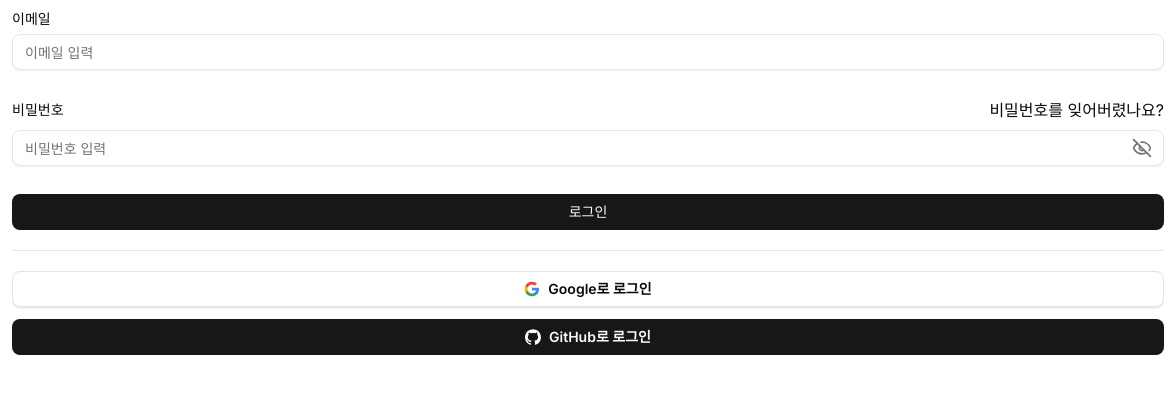
Test: LoginForm › 비밀번호가 비어있으면 에러 메시지를 표시한다
In the field with placeholder "이메일 입력": (588, 52) top-left (12, 34), bottom-right (1164, 70), type "test@example.com"
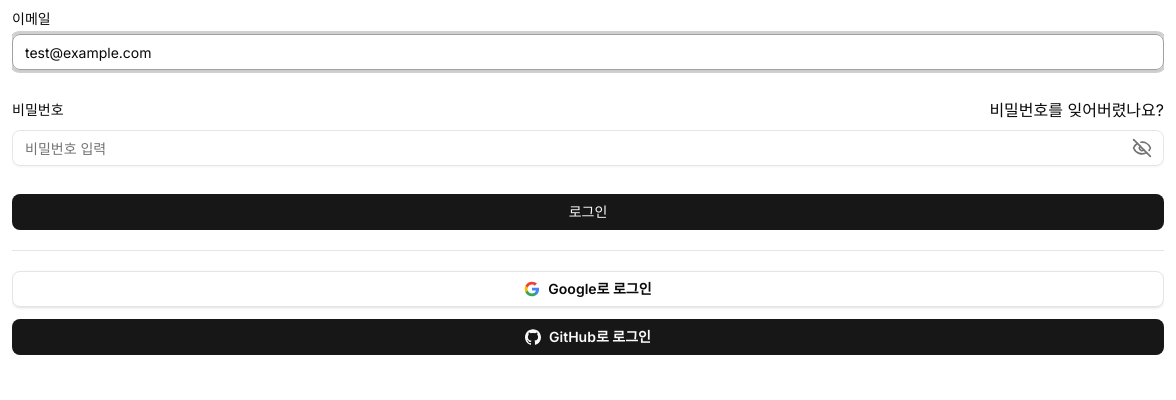
Click the button "로그인": (588, 212) top-left (12, 194), bottom-right (1164, 230)
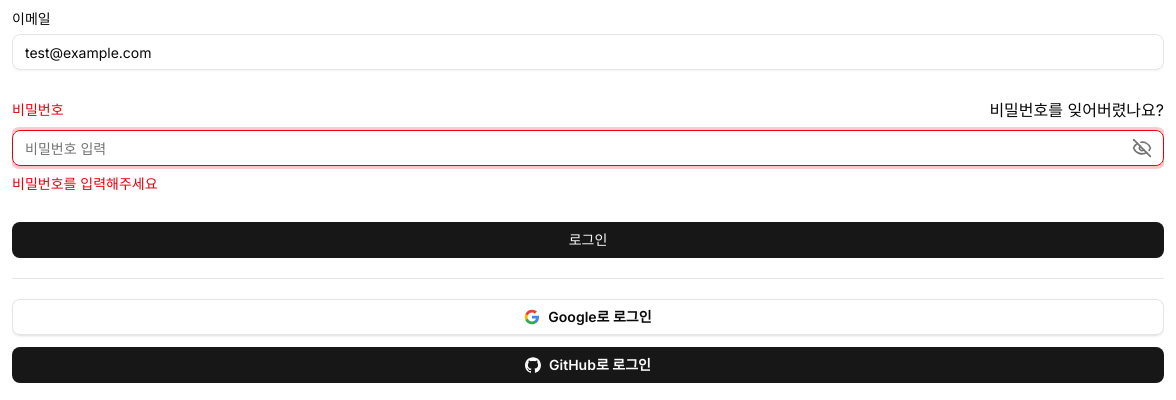
Check: the text "비밀번호를 입력해주세요" is shown, box top-left (12, 175), bottom-right (158, 192)
